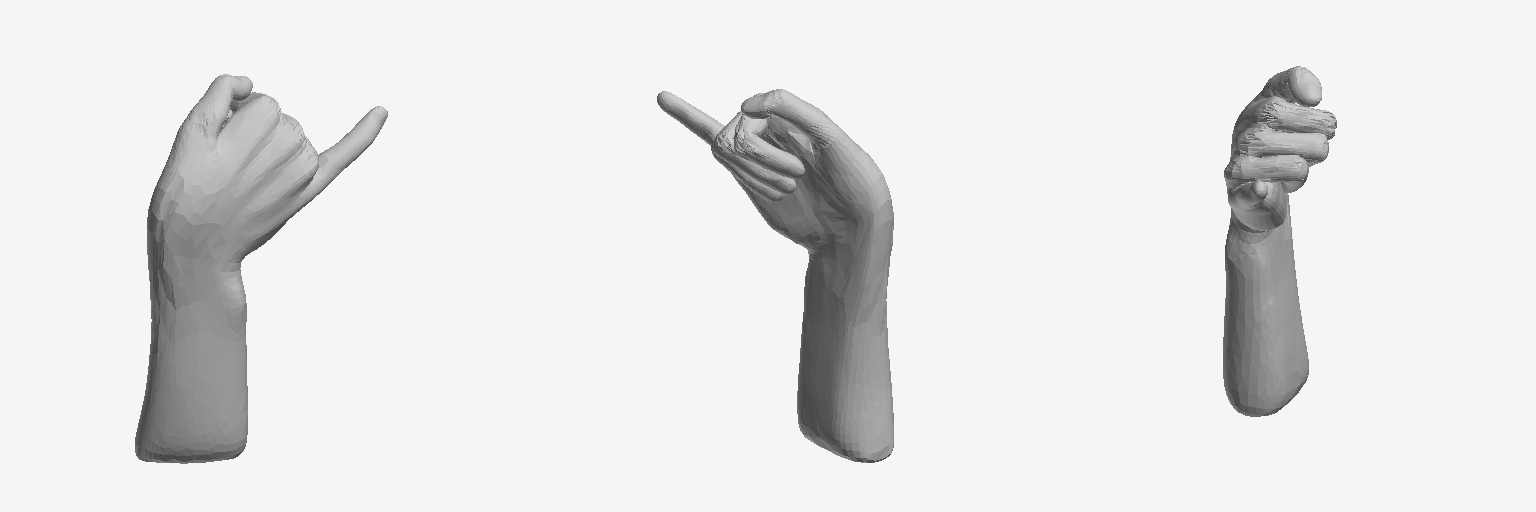
File: mainj.obj
3 renders of one model, left to right at view 1: azimuth 30°, elevation 25°; view 2: azimuth 150°, elevation 25°; view 3: azimuth 270°, elevation 25°, orthographic.
Parts seen in each view (by area): view 1: ZBrush_defualt_group; view 2: ZBrush_defualt_group; view 3: ZBrush_defualt_group.
Boxes of the visible parts, x1,y1,x2,y2 form: ZBrush_defualt_group: [135, 74, 387, 463]; ZBrush_defualt_group: [657, 89, 893, 462]; ZBrush_defualt_group: [1223, 66, 1336, 416].
Bounding box in the file's own units: 5.23 × 7.36 × 2.15.